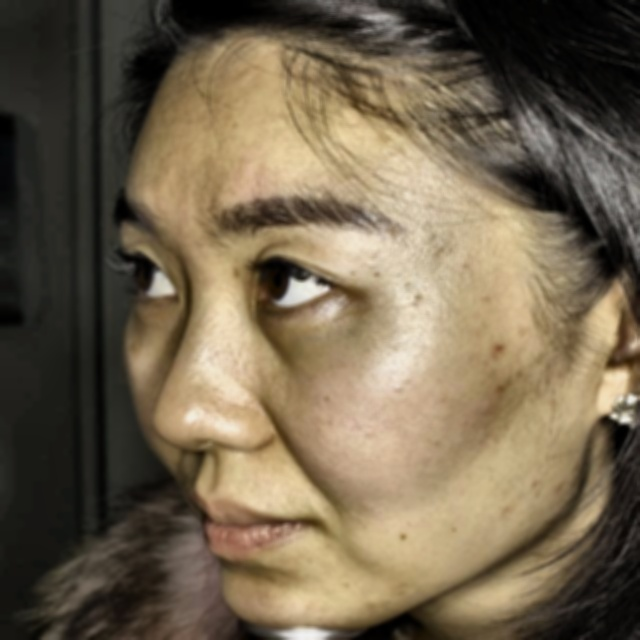comedone: (487, 330, 509, 362), (544, 471, 566, 497)
